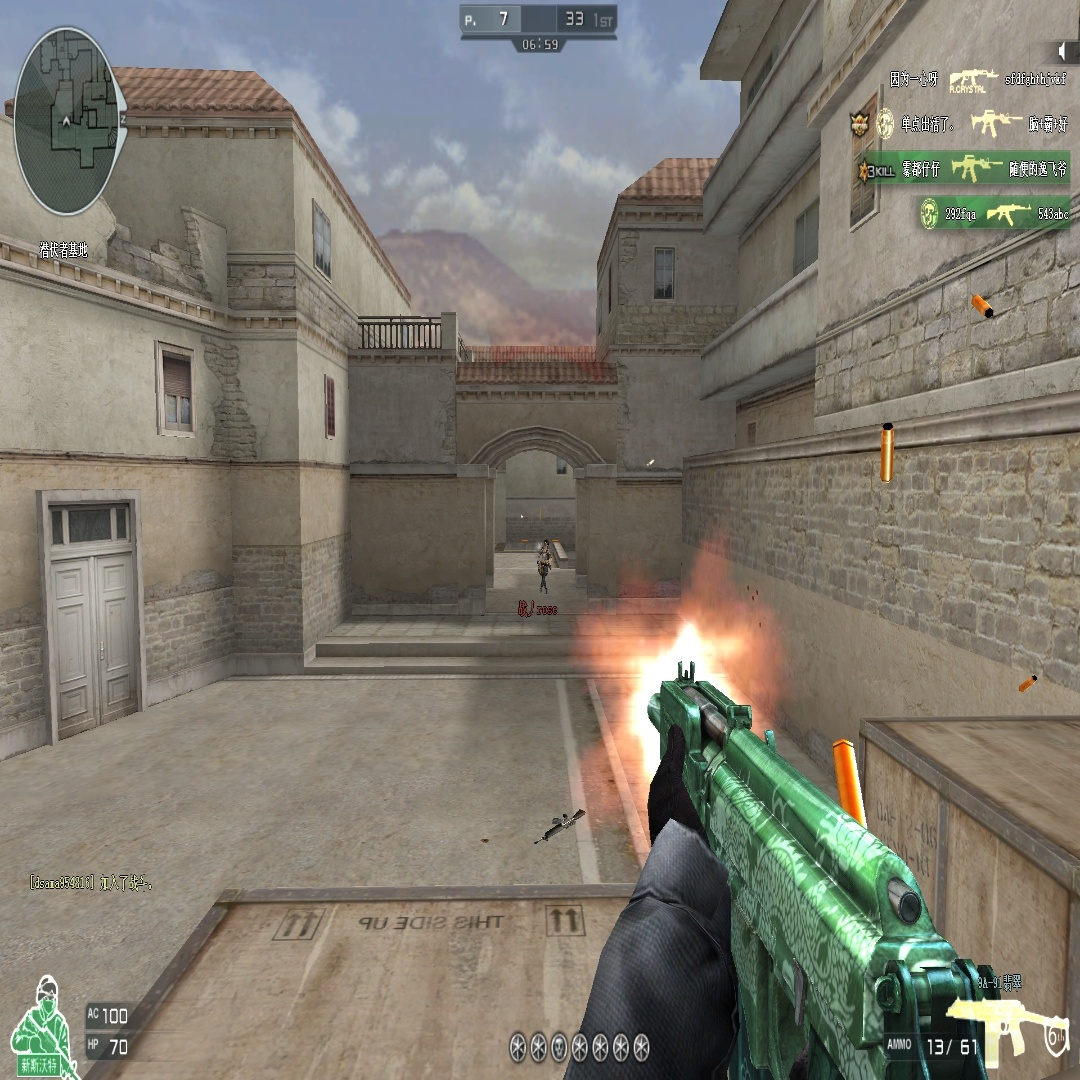head: (543, 538, 550, 549)
p: (536, 542, 551, 593)
